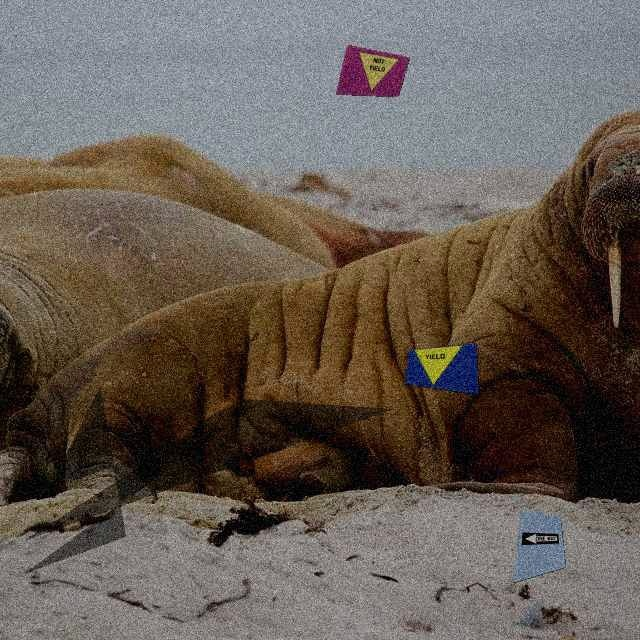NOT_YIELD: (349, 51, 401, 92)
ONE_WAY_ left: (521, 530, 559, 550)
YIELD: (410, 345, 465, 390)
